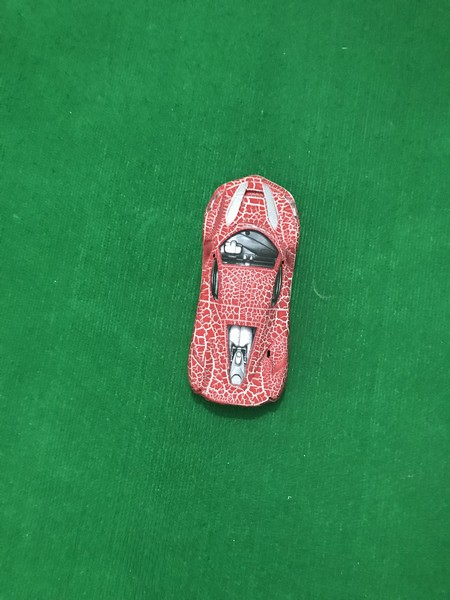RC: (186, 172, 304, 411)
